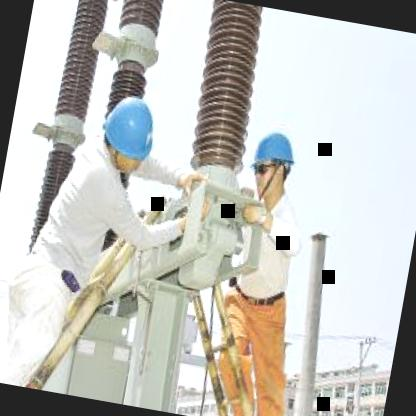helmet: (92, 82, 165, 188), (243, 117, 304, 214)
